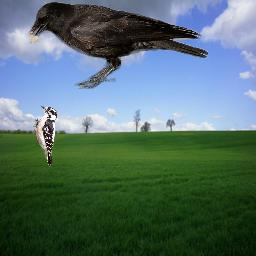Crow: (26, 1, 208, 89)
Woodpecker: (33, 105, 58, 168)
